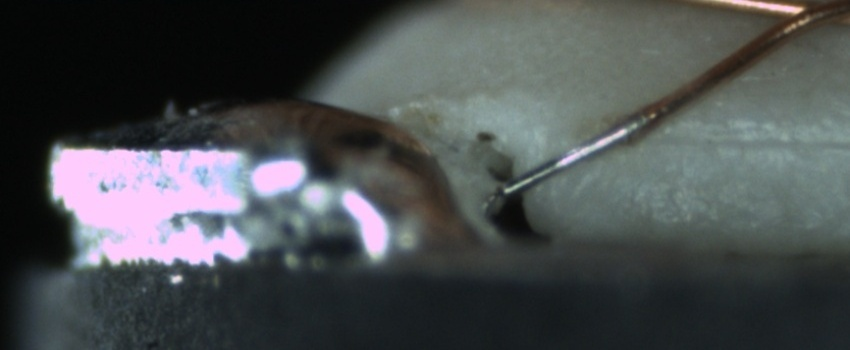DL: (634, 105, 848, 175)
TS: (504, 112, 645, 198)
